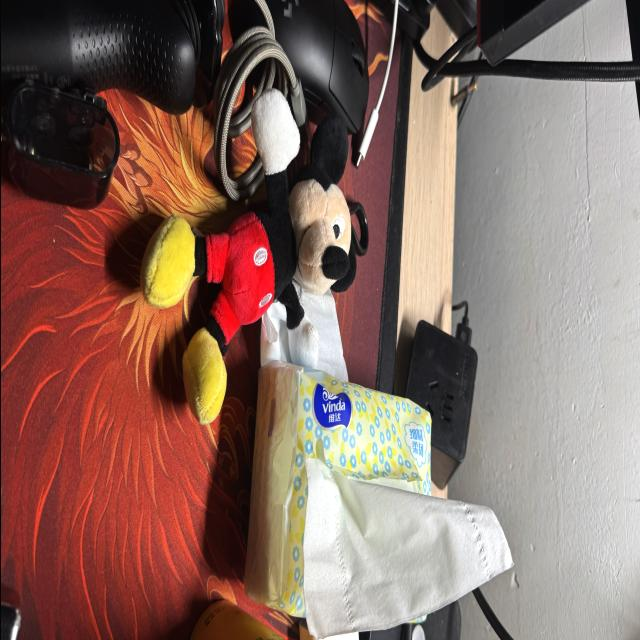mickey: (140, 90, 355, 424)
tissue: (245, 362, 429, 616), (302, 459, 511, 638), (260, 284, 347, 381)
